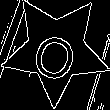O_N: (28, 19, 84, 81)
